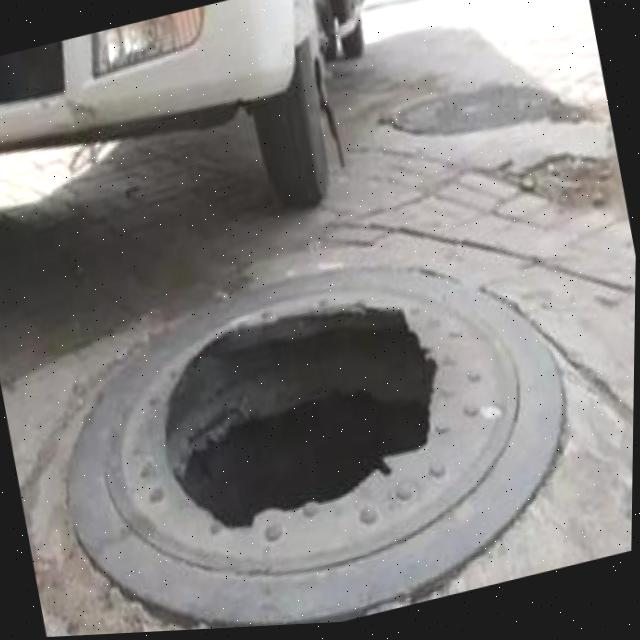manhole: (29, 199, 596, 639)
